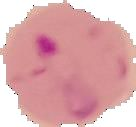parasitized: (8, 4, 133, 127), (1, 22, 61, 84)
